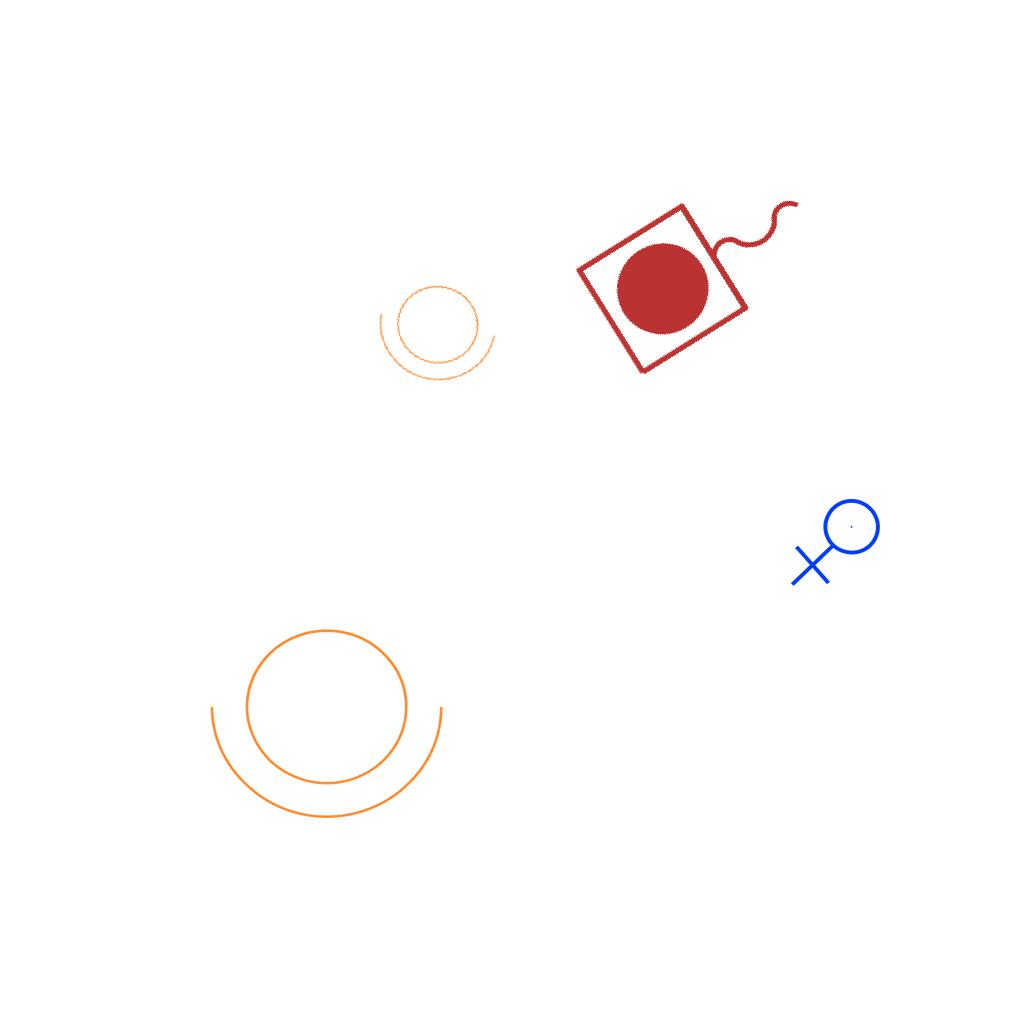Elektroanschluss_allgemein_230V_Geraeteanschlussdose_230V: (790, 497, 889, 591)
Scheinwerfer_fuer_Alarmbeleuchtung: (201, 604, 465, 829), (364, 262, 516, 398)
Zugtaster: (564, 138, 848, 390)
